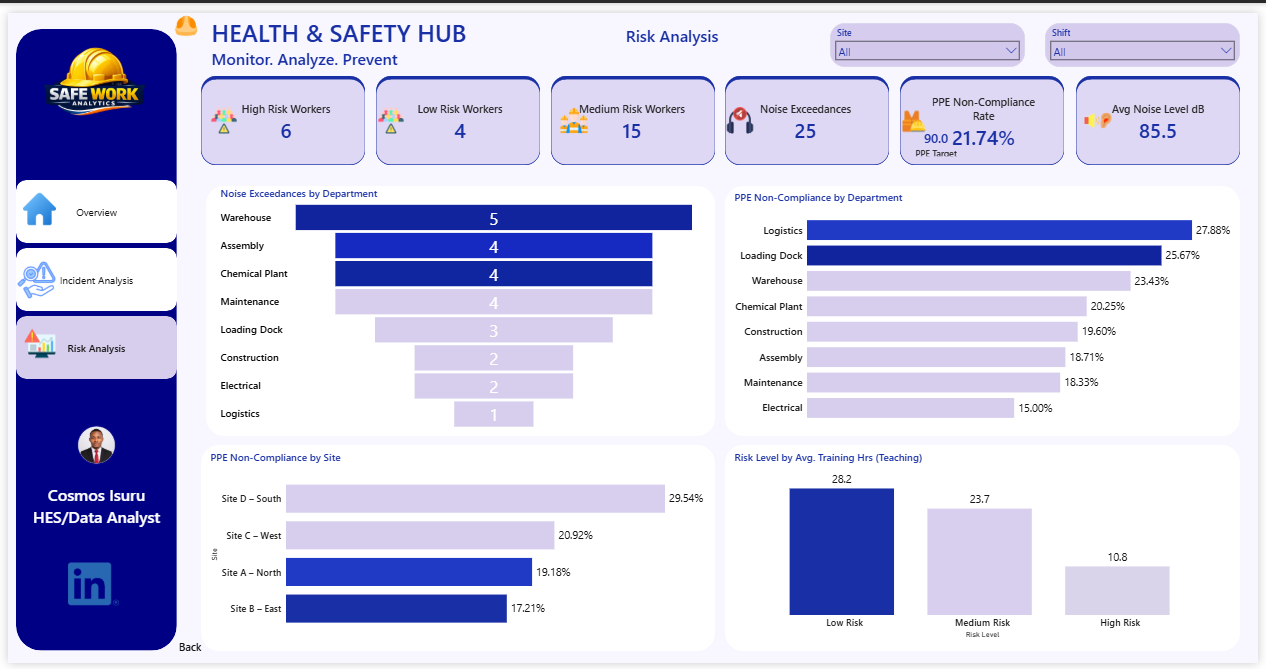

Layout of this report page (visuals, bound fields, positions):
{"tool":"powerbi","page":{"name":"Risk Analysis","canvas":[2500,1300],"ordinal":2},"visuals":[{"type":"shape","box":[15,31.7,321.7,1243.3],"z":0},{"type":"textbox","box":[401.7,0,531.7,126.7],"z":1000},{"type":"image","box":[15,0,315,291.7],"z":2000},{"type":"shape","box":[386.7,126.7,328.3,178.3],"z":3000,"group":"g1"},{"type":"group","id":"g1","title":"Group 1","box":[386.7,126.7,328.3,178.3],"z":3000},{"type":"shape","box":[735,126.7,328.3,178.3],"z":3000,"group":"g4"},{"type":"shape","box":[1085,126.7,328.3,178.3],"z":3000,"group":"g5"},{"type":"group","id":"g2","title":"Group 2","box":[1433.3,126.7,328.3,178.3],"z":4000},{"type":"shape","box":[386.7,133.4,328.3,171.7],"z":4000,"group":"g1"},{"type":"shape","box":[735,133.4,328.3,171.7],"z":4000,"group":"g4"},{"type":"shape","box":[1085,133.4,328.3,171.7],"z":4000,"group":"g5"},{"type":"shape","box":[2136,126,328.3,178.3],"z":5000,"group":"g6"},{"type":"shape","box":[1433.3,126.7,328.3,178.3],"z":5000,"group":"g2"},{"type":"group","id":"g3","title":"Group 2","box":[1783.3,126.7,328.3,178.3],"z":5000},{"type":"shape","box":[1783.3,126.7,328.3,178.3],"z":5000,"group":"g3"},{"type":"group","id":"g4","title":"Group 1","box":[735,126.7,328.3,178.3],"z":6000},{"type":"shape","box":[2136,132.7,328.3,171.7],"z":6000,"group":"g6"},{"type":"shape","box":[1433.3,133.4,328.3,171.7],"z":6000,"group":"g2"},{"type":"shape","box":[1783.3,133.4,328.3,171.7],"z":6000,"group":"g3"},{"type":"group","id":"g5","title":"Group 1","box":[1085,126.7,328.3,178.3],"z":7000},{"type":"shape","box":[396,346,1018,500],"z":8000},{"type":"shape","box":[386,864,1028,412],"z":9000},{"type":"shape","box":[1434,864,1030,412],"z":10000},{"type":"shape","box":[1434,346,1030,500],"z":11000},{"type":"group","id":"g6","title":"Group 2","box":[2136,126,328,180],"z":12000},{"type":"slicer","fields":{"Values":["Worker Safety Dataset.Shift"]},"box":[2074,20,390,88],"z":13000},{"type":"slicer","fields":{"Values":["Worker Safety Dataset.Site"]},"box":[1644,20,390,88],"z":14000},{"type":"image","box":[312.9,0,88.6,51.4],"z":15000},{"type":"image","box":[1784,188,56,56],"z":16000},{"type":"image","box":[16,792,322,144],"z":17000},{"type":"image","box":[120,1086,102,112],"z":18000},{"type":"textbox","box":[16,936,322,108],"z":19000},{"type":"barChart","title":"PPE Non-Compliance by Department","fields":{"Category":["Worker Safety Dataset.Department"],"Y":["OHS Metrics Summary.PPE Non-Compliance Rate"]},"box":[1448,354,1002,482],"z":20000},{"type":"clusteredBarChart","title":"PPE Non-Compliance by Site","fields":{"Category":["Worker Safety Dataset.Site"],"Y":["OHS Metrics Summary.PPE Non-Compliance Rate"]},"box":[400,874,996,382],"z":21000},{"type":"columnChart","title":"Risk Level by Avg. Training Hrs (Teaching)","fields":{"Category":["Demo – Teaching Table.Risk Level"],"Y":["OHS Metrics Summary.Avg Training Hrs (Teaching)"]},"box":[1448,874,1002,382],"z":22000},{"type":"image","box":[1100,188,64,54],"z":23000},{"type":"actionButton","box":[326,1232,76,68],"z":24000},{"type":"cardVisual","fields":{"Data":["OHS Metrics Summary.High Risk Workers"]},"box":[416,146,280,144],"z":25000},{"type":"pageNavigator","box":[16,334,322,398],"z":25000,"group":"g8"},{"type":"cardVisual","fields":{"Data":["OHS Metrics Summary.Low Risk Workers"]},"box":[764,146,280,144],"z":26000},{"type":"cardVisual","fields":{"Data":["OHS Metrics Summary.Medium Risk Workers"]},"box":[1100,146,296,144],"z":27000},{"type":"cardVisual","fields":{"Data":["OHS Metrics Summary.Noise Exceedances"]},"box":[1448,146,294,144],"z":28000},{"type":"cardVisual","fields":{"Data":["OHS Metrics Summary.PPE Non-Compliance Rate"]},"box":[1804,146,294,144],"z":29000},{"type":"cardVisual","fields":{"Data":["OHS Metrics Summary.Avg Noise Level dB"]},"box":[2150,146,300,144],"z":30000},{"type":"funnel","fields":{"Category":["Worker Safety Dataset.Department"],"Y":["OHS Metrics Summary.Noise Exceedances"]},"box":[420,346,958,492],"z":31000},{"type":"image","box":[402,188,60,54],"z":32000},{"type":"image","box":[1434,188,60,54],"z":33000},{"type":"image","box":[2150,188,60,54],"z":34000},{"type":"group","id":"g7","title":"Group 5","box":[16,334,322,398],"z":35000},{"type":"cardVisual","fields":{"Data":["OHS Metrics Summary.PPE Target"]},"box":[1784,220,144,84],"z":36000},{"type":"image","box":[736,188,60,54],"z":37000},{"type":"textbox","box":[1044,0,568,126],"z":37001},{"type":"image","box":[30,334,66,116],"z":40000,"group":"g8"},{"type":"group","id":"g8","title":"Group 3","box":[16,334,322,398],"z":40001,"group":"g9"},{"type":"image","box":[18,480,78,108],"z":43000,"group":"g9"},{"type":"group","id":"g9","title":"Group 4","box":[16,334,322,398],"z":43001,"group":"g7"},{"type":"image","box":[32,600,64,122],"z":43502,"group":"g7"}]}

Visuals, with their boxes in screenshot pixels (x1, y1, x2, y2), scaled from the page's 2500x1300 canvas onto the 1266x669 screenshot:
shape: bbox(8, 16, 171, 656)
textbox: bbox(203, 0, 473, 65)
image: bbox(8, 0, 167, 150)
shape: bbox(196, 65, 362, 157)
"Group 1" group: bbox(196, 65, 362, 157)
shape: bbox(372, 65, 538, 157)
shape: bbox(549, 65, 716, 157)
"Group 2" group: bbox(726, 65, 892, 157)
shape: bbox(196, 69, 362, 157)
shape: bbox(372, 69, 538, 157)
shape: bbox(549, 69, 716, 157)
shape: bbox(1082, 65, 1248, 157)
shape: bbox(726, 65, 892, 157)
"Group 2" group: bbox(903, 65, 1069, 157)
shape: bbox(903, 65, 1069, 157)
"Group 1" group: bbox(372, 65, 538, 157)
shape: bbox(1082, 68, 1248, 157)
shape: bbox(726, 69, 892, 157)
shape: bbox(903, 69, 1069, 157)
"Group 1" group: bbox(549, 65, 716, 157)
shape: bbox(201, 178, 716, 435)
shape: bbox(195, 445, 716, 657)
shape: bbox(726, 445, 1248, 657)
shape: bbox(726, 178, 1248, 435)
"Group 2" group: bbox(1082, 65, 1248, 157)
slicer - Worker Safety Dataset.Shift: bbox(1050, 10, 1248, 56)
slicer - Worker Safety Dataset.Site: bbox(833, 10, 1030, 56)
image: bbox(158, 0, 203, 26)
image: bbox(903, 97, 932, 126)
image: bbox(8, 408, 171, 482)
image: bbox(61, 559, 112, 617)
textbox: bbox(8, 482, 171, 537)
"PPE Non-Compliance by Department" barChart: bbox(733, 182, 1241, 430)
"PPE Non-Compliance by Site" clusteredBarChart: bbox(203, 450, 707, 646)
"Risk Level by Avg. Training Hrs (Teaching)" columnChart: bbox(733, 450, 1241, 646)
image: bbox(557, 97, 589, 125)
actionButton: bbox(165, 634, 204, 668)
cardVisual - OHS Metrics Summary.High Risk Workers: bbox(211, 75, 352, 149)
pageNavigator: bbox(8, 172, 171, 377)
cardVisual - OHS Metrics Summary.Low Risk Workers: bbox(387, 75, 529, 149)
cardVisual - OHS Metrics Summary.Medium Risk Workers: bbox(557, 75, 707, 149)
cardVisual - OHS Metrics Summary.Noise Exceedances: bbox(733, 75, 882, 149)
cardVisual - OHS Metrics Summary.PPE Non-Compliance Rate: bbox(914, 75, 1062, 149)
cardVisual - OHS Metrics Summary.Avg Noise Level dB: bbox(1089, 75, 1241, 149)
funnel - Worker Safety Dataset.Department x OHS Metrics Summary.Noise Exceedances: bbox(213, 178, 698, 431)
image: bbox(204, 97, 234, 125)
image: bbox(726, 97, 757, 125)
image: bbox(1089, 97, 1119, 125)
"Group 5" group: bbox(8, 172, 171, 377)
cardVisual - OHS Metrics Summary.PPE Target: bbox(903, 113, 976, 156)
image: bbox(373, 97, 403, 125)
textbox: bbox(529, 0, 816, 65)
image: bbox(15, 172, 49, 232)
"Group 3" group: bbox(8, 172, 171, 377)
image: bbox(9, 247, 49, 303)
"Group 4" group: bbox(8, 172, 171, 377)
image: bbox(16, 309, 49, 372)
